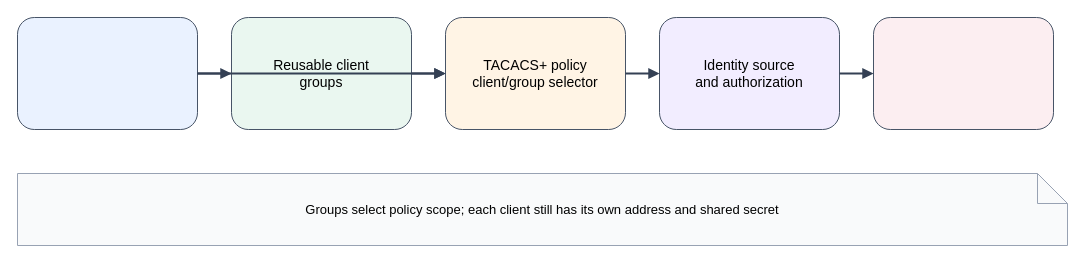
Image size: 1085x263. Some labels were removed from this diagram. The shapes that lost their labels are listed below. From the top down, each one's centre as x and y in pixels, then its label:
(107,73): Registered TACACS client objects
(963,73): TACACS+ response to device
